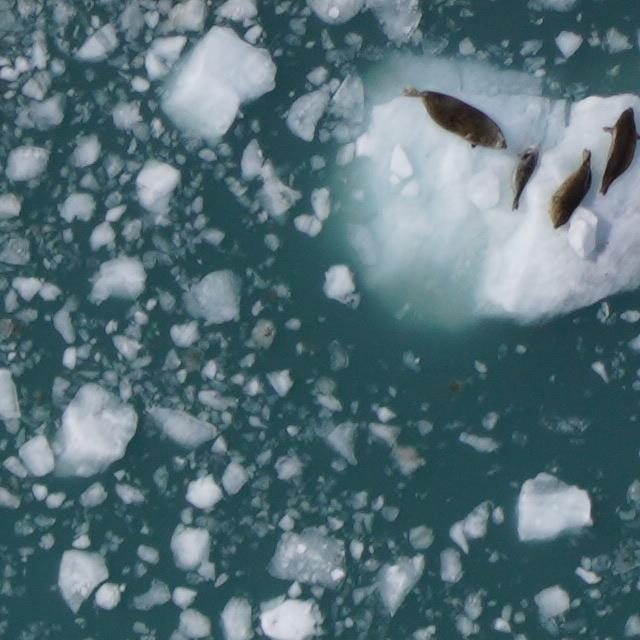seal: (393, 69, 514, 160), (535, 143, 609, 235), (597, 105, 639, 196), (497, 141, 544, 211)
